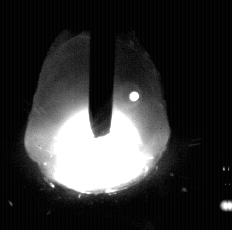arame: (90, 0, 114, 138)
poca: (23, 0, 169, 230)
